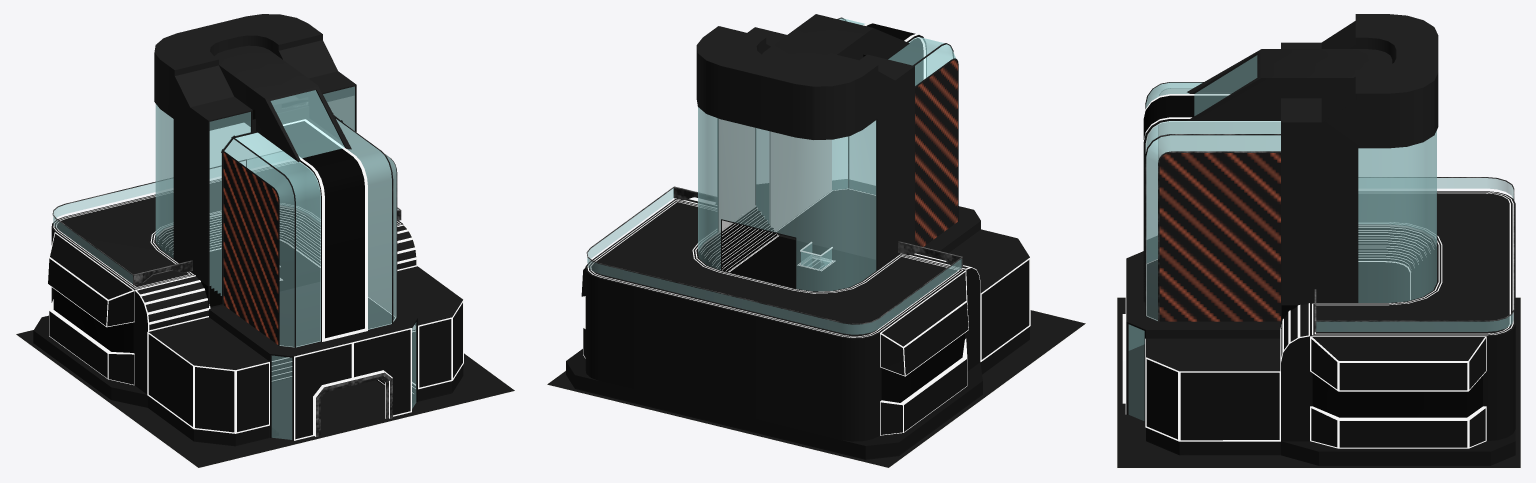
The model's file is Dhingia Builds 18 Size 2x2.glb.
The picture shows the model from 3 angles, left to right: view 1: azimuth 30°, elevation 25°; view 2: azimuth 150°, elevation 25°; view 3: azimuth 270°, elevation 25°; orthographic projection. The views are drawn at different scales.
Parts seen in each view (by area): view 1: Building, Lights; view 2: Building, Lights; view 3: Building, Lights.
Boxes of the visible parts, x1,y1,x2,y2 form: Building: [14, 14, 516, 468]; Lights: [53, 162, 463, 440]; Building: [545, 14, 1087, 468]; Lights: [587, 37, 1030, 361]; Building: [1116, 14, 1521, 468]; Lights: [1125, 121, 1513, 441].
Size of what is drawn, in the model's own units: 32 by 28.65 by 32.
Materials: 4 (1 with a texture image).
